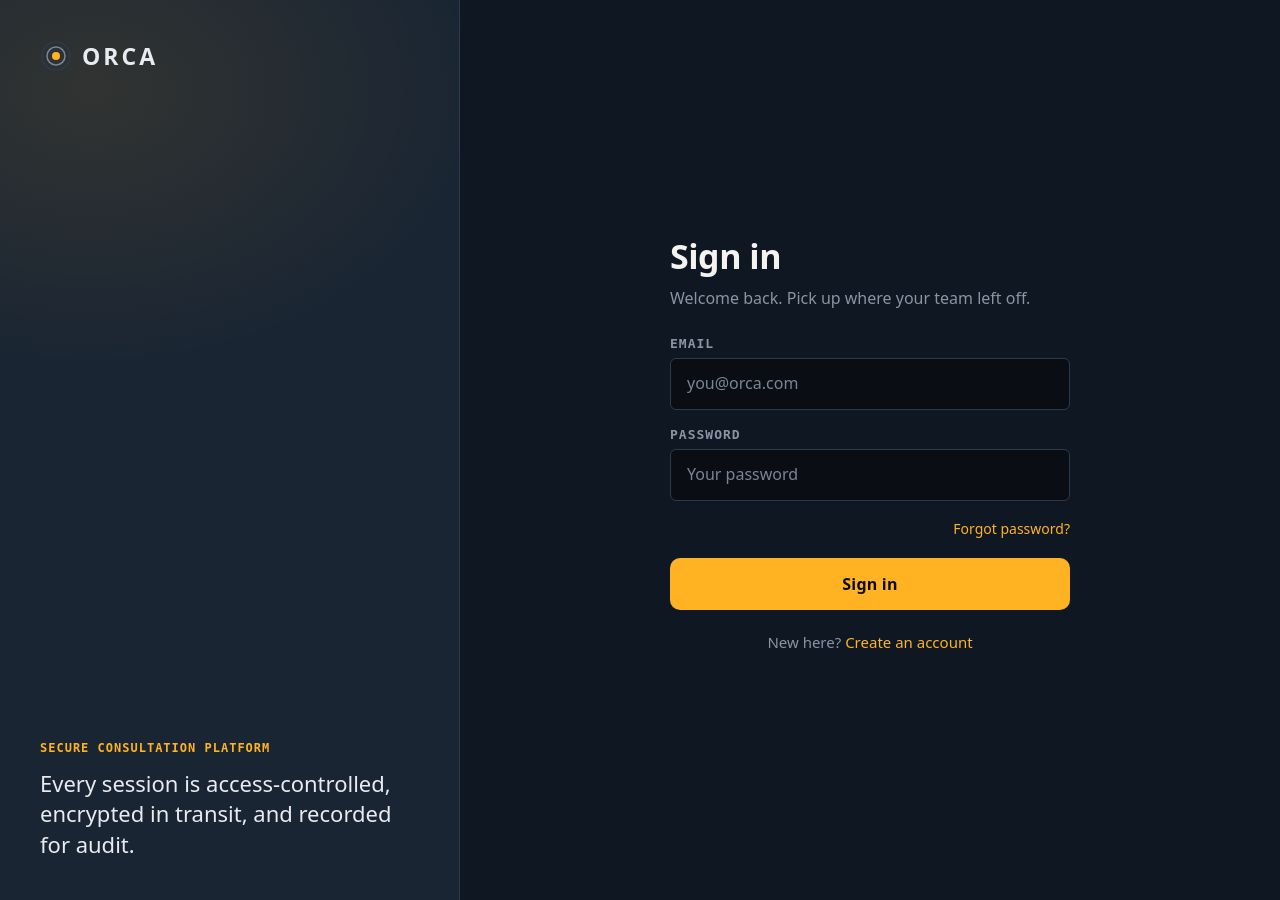
Scenario: Login page › reveals the TOTP code field when login reports totpRequired
The image size is (1280, 900).
In the field labelled "Email": (870, 384) [670,358,1070,410], type "john@orca.com"
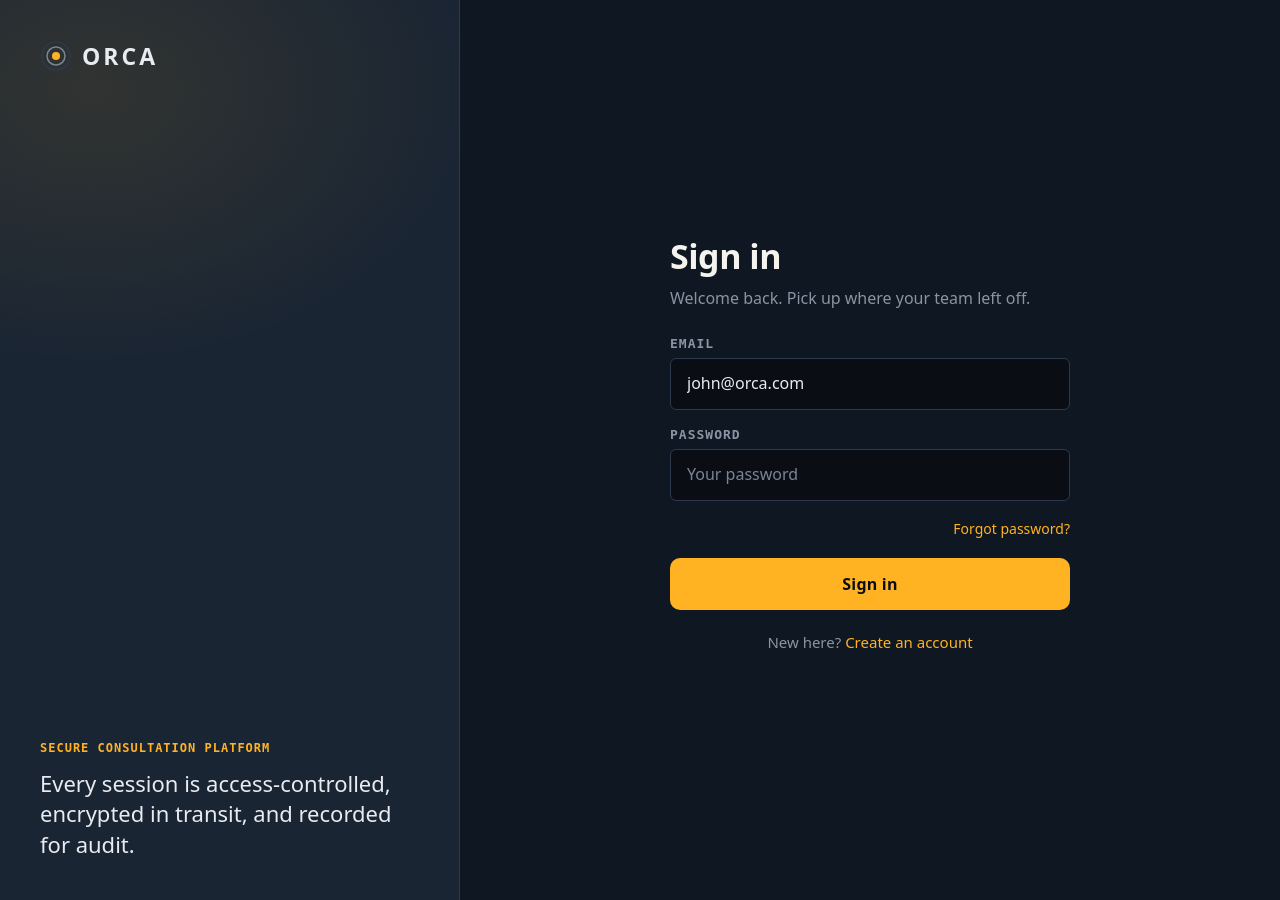
In the password field labelled "Password": (870, 475) [670,449,1070,501], type "WorkerPass123!"
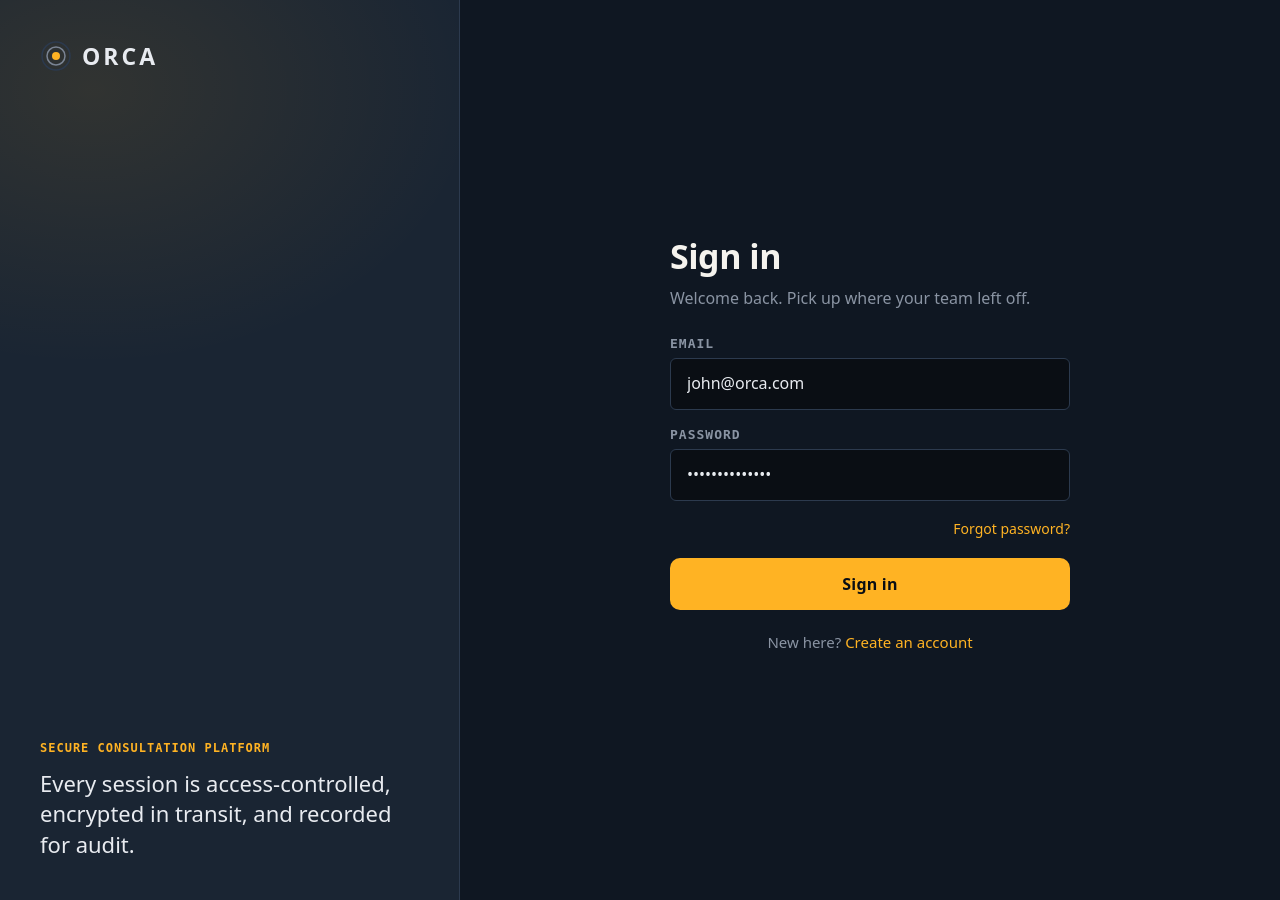
Click the button "Sign in": (870, 584) [670,558,1070,610]
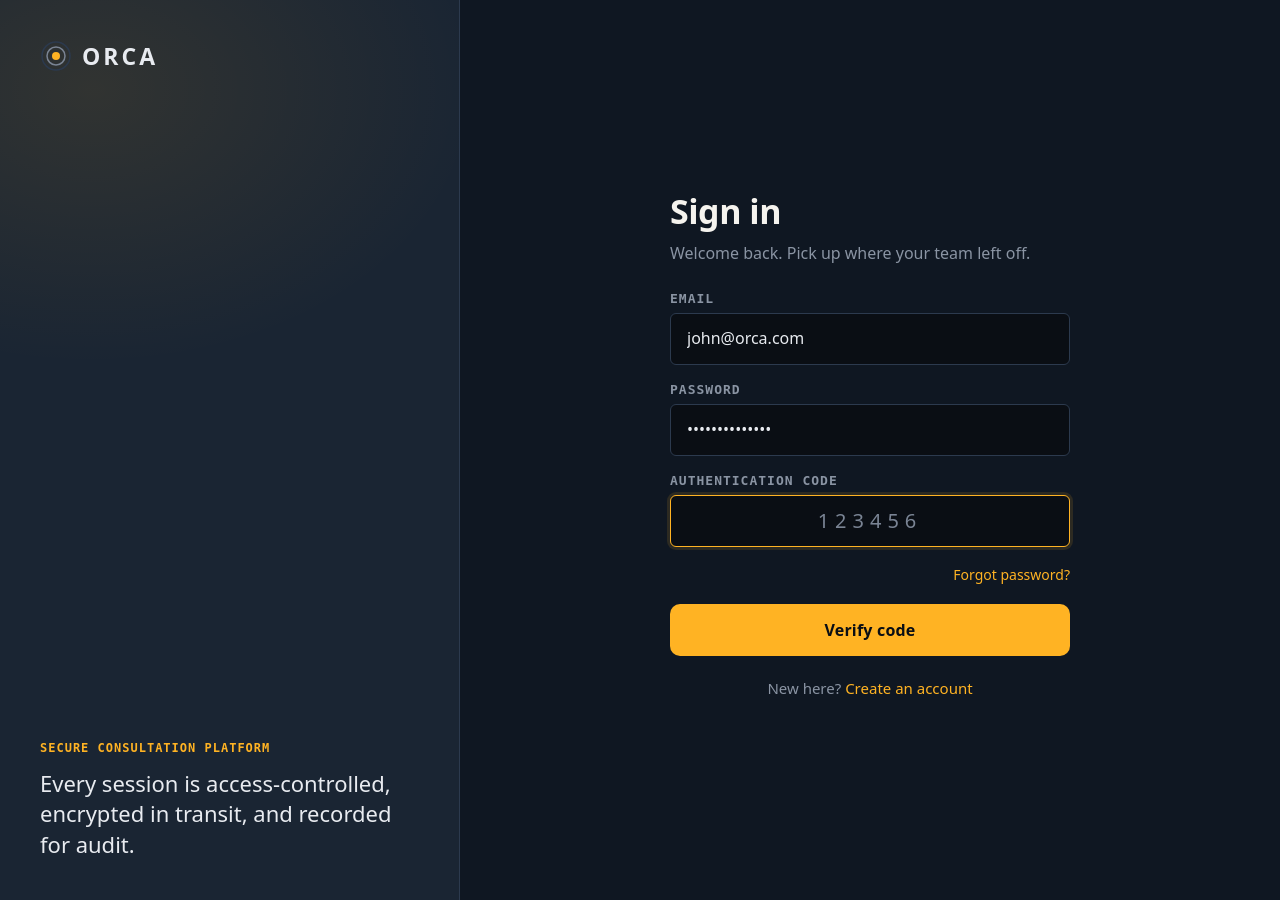
Expected: the field labelled "Authentication code" is shown, [670,494,1070,546]
